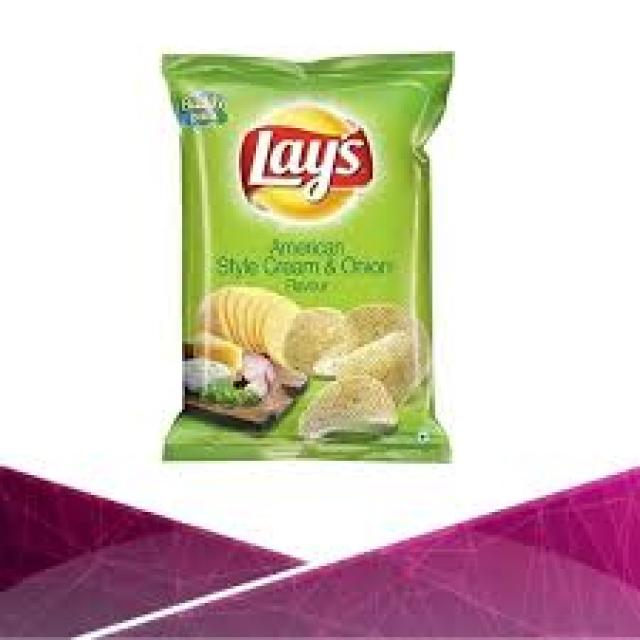lays: (142, 35, 457, 475)
